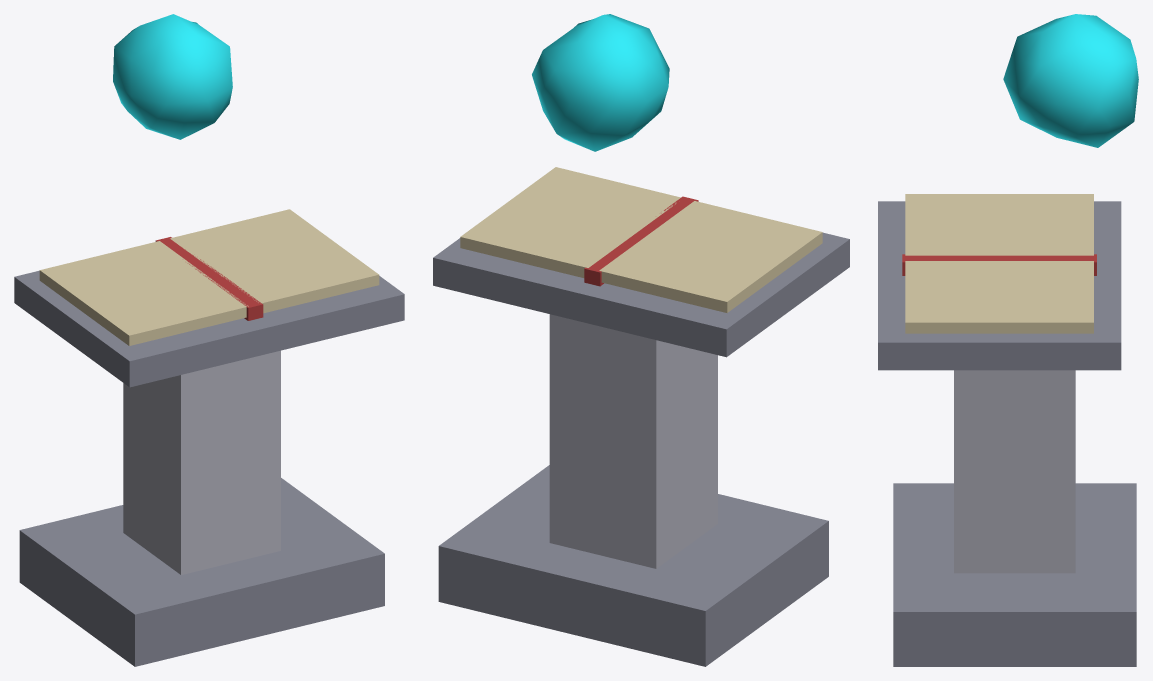
The model's file is archive_lectern.glb.
3 renders of one model, left to right at view 1: azimuth 30°, elevation 25°; view 2: azimuth 150°, elevation 25°; view 3: azimuth 270°, elevation 25°, orthographic. The views are drawn at different scales.
Visible parts, largest first — view 1: foot; view 2: foot; view 3: foot.
Boxes of the visible parts, x1,y1,x2,y2 form: foot: (14,14,404,666); foot: (433,14,849,666); foot: (878,14,1138,666).
Bounding box in the file's own units: 1.1 × 2.14 × 0.8577.
